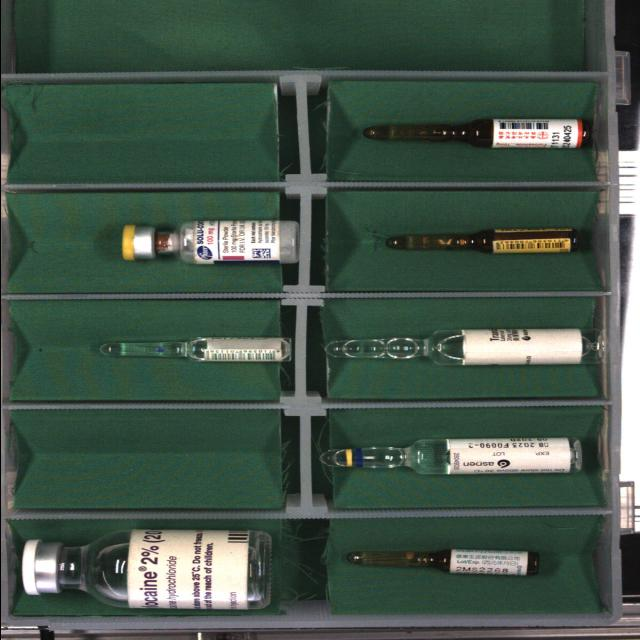Vials: (21, 530, 271, 609), (121, 221, 298, 264)
